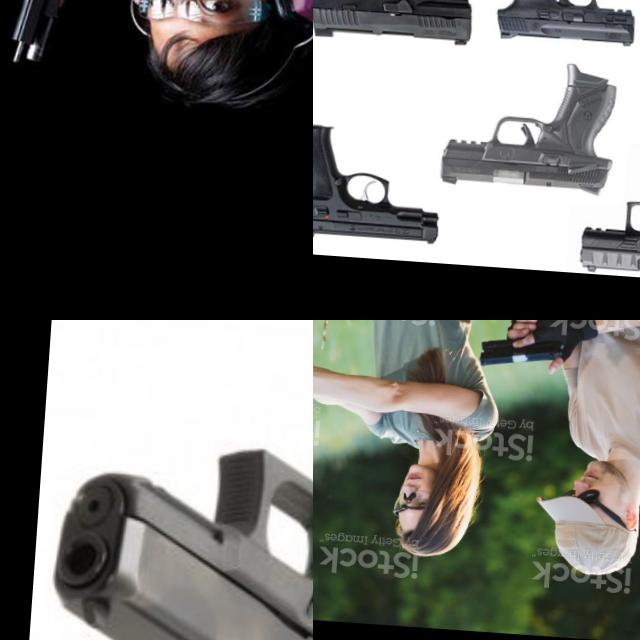handgun: (33, 343, 313, 640), (436, 51, 622, 201), (313, 120, 444, 248), (313, 0, 479, 77), (0, 0, 113, 108), (486, 0, 640, 61), (575, 151, 640, 285), (474, 329, 568, 374), (313, 366, 350, 415)
